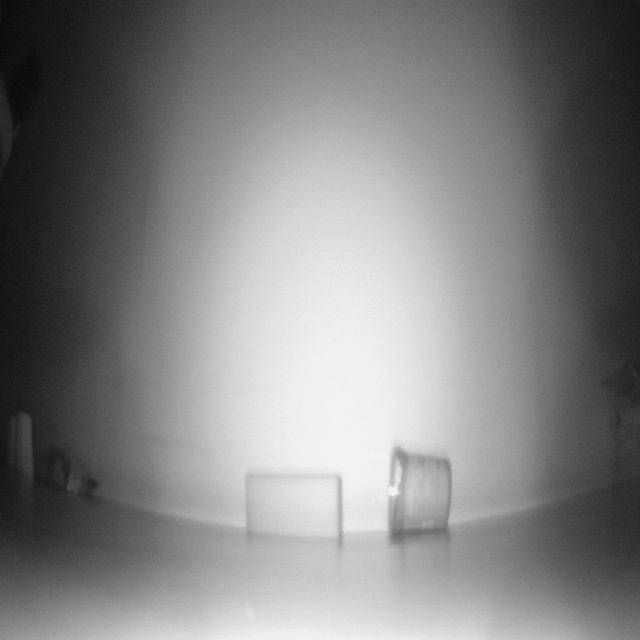targets: (245, 470, 346, 544), (389, 448, 452, 541), (36, 447, 101, 503), (3, 408, 36, 479)
